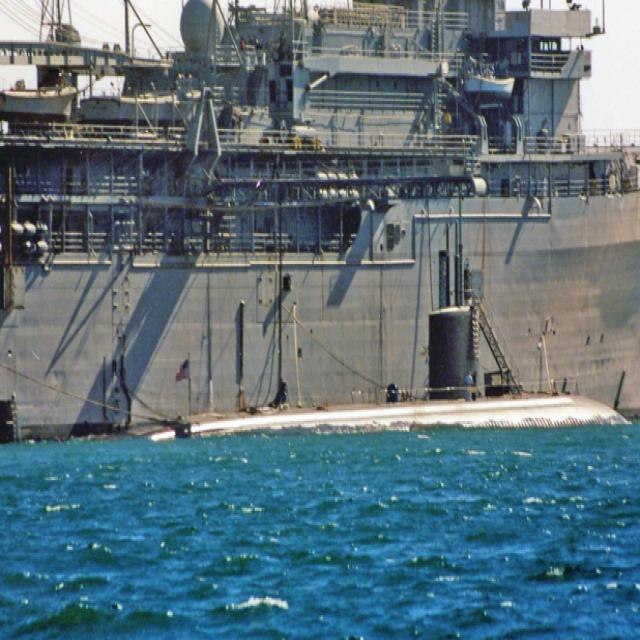submarine: (97, 222, 640, 439)
